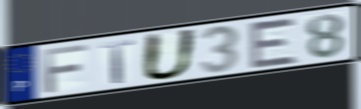3: (200, 23, 243, 75)
8: (303, 11, 346, 61)
E: (247, 16, 300, 70)
F: (41, 42, 90, 95)
T: (98, 38, 136, 85)
U: (139, 27, 200, 83)
